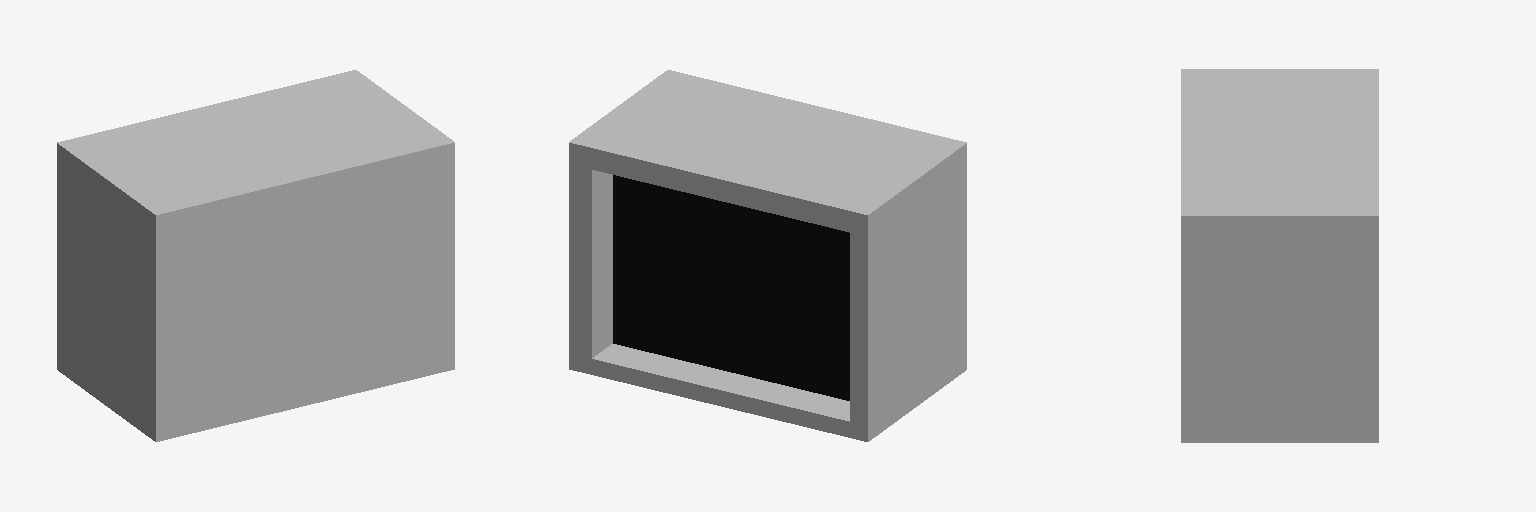
File: Shuttlebay.obj
The picture shows the model from 3 angles: view 1: azimuth 30°, elevation 25°; view 2: azimuth 150°, elevation 25°; view 3: azimuth 270°, elevation 25°; orthographic projection.
Visible parts, largest first — view 1: group[number redacted]; view 2: group[number redacted]; view 3: group[number redacted].
Boxes of the visible parts, <box> form: group[number redacted]: <box>57,70,454,441</box>; group[number redacted]: <box>569,70,966,441</box>; group[number redacted]: <box>1181,69,1378,442</box>.
Size of the model in its own units: 0.24 by 0.1738 by 0.1379.